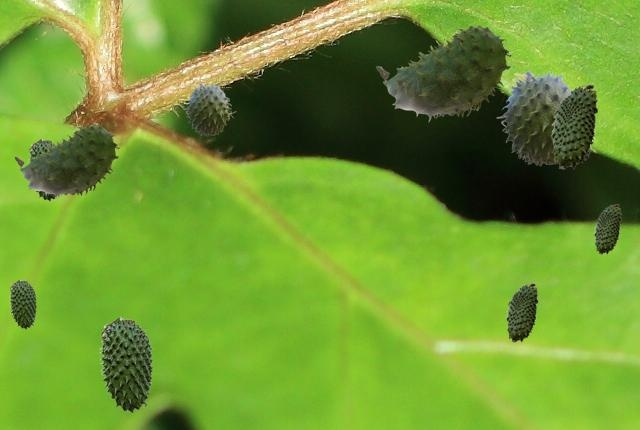guyabano: (376, 25, 510, 121), (14, 124, 118, 199), (496, 69, 571, 165), (99, 316, 153, 412), (551, 84, 597, 168), (183, 82, 235, 135), (28, 138, 58, 200), (506, 283, 537, 341), (9, 279, 36, 328), (594, 204, 620, 253)
